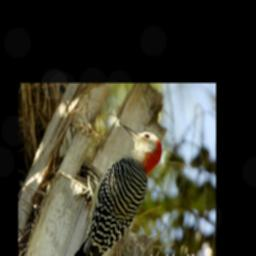Woodpecker: (59, 124, 165, 256)
